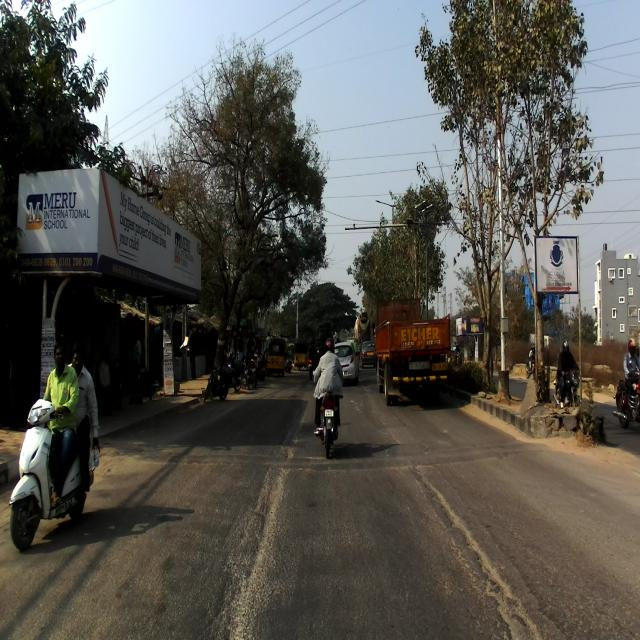motorcycle ahead at: (10, 400, 74, 553), (312, 391, 346, 466)
truck ahead at: (375, 293, 457, 410)
